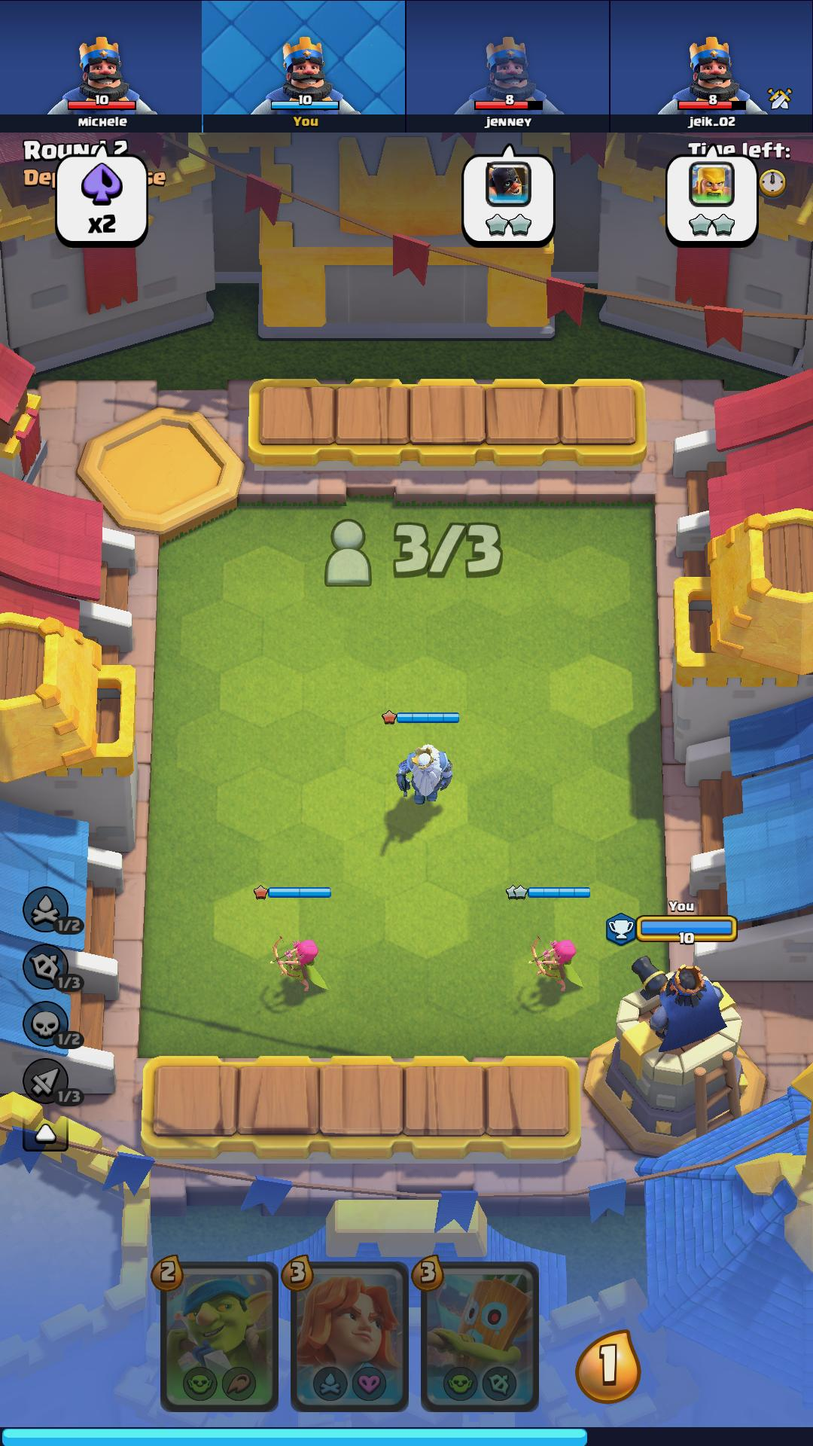archer: (258, 924, 332, 998), (522, 926, 583, 1003)
ghost: (381, 737, 458, 815)
hand-dart: (423, 1261, 537, 1407)
hand-spear: (166, 1265, 277, 1406)
hand-valkyrie: (294, 1264, 406, 1408)
